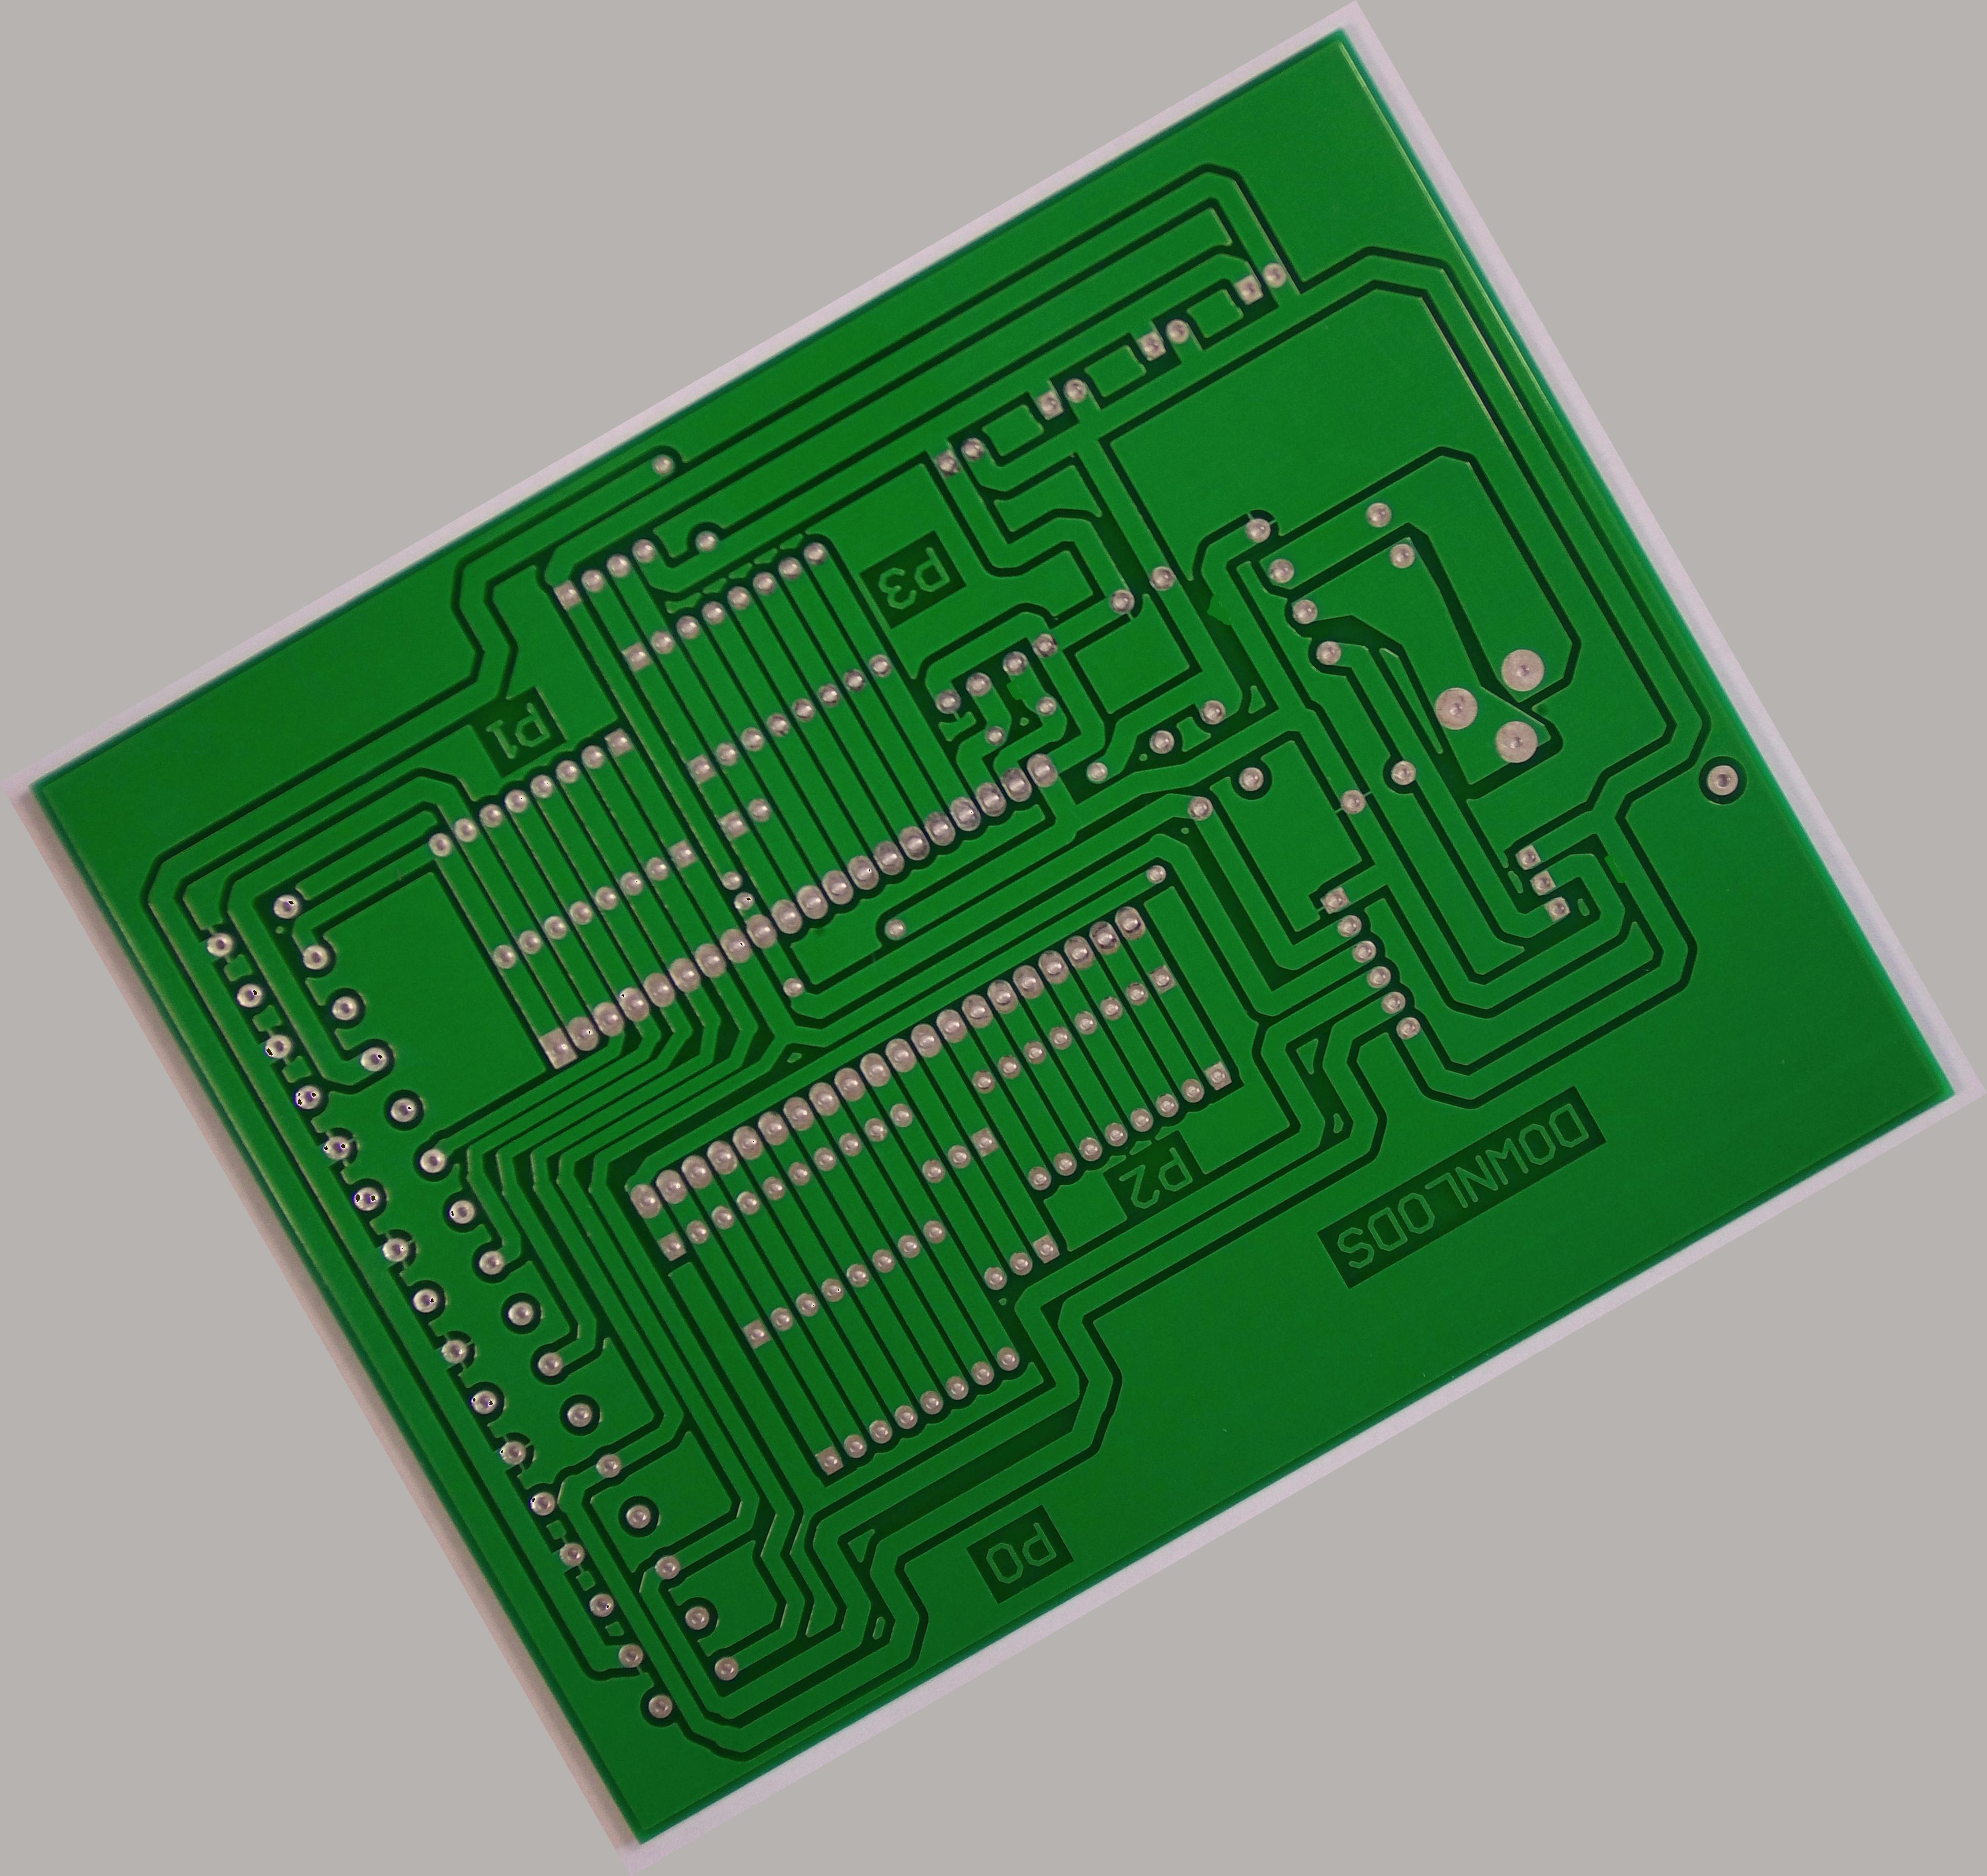spur: (1194, 578, 1247, 644), (1596, 841, 1640, 894), (998, 670, 1037, 709)
